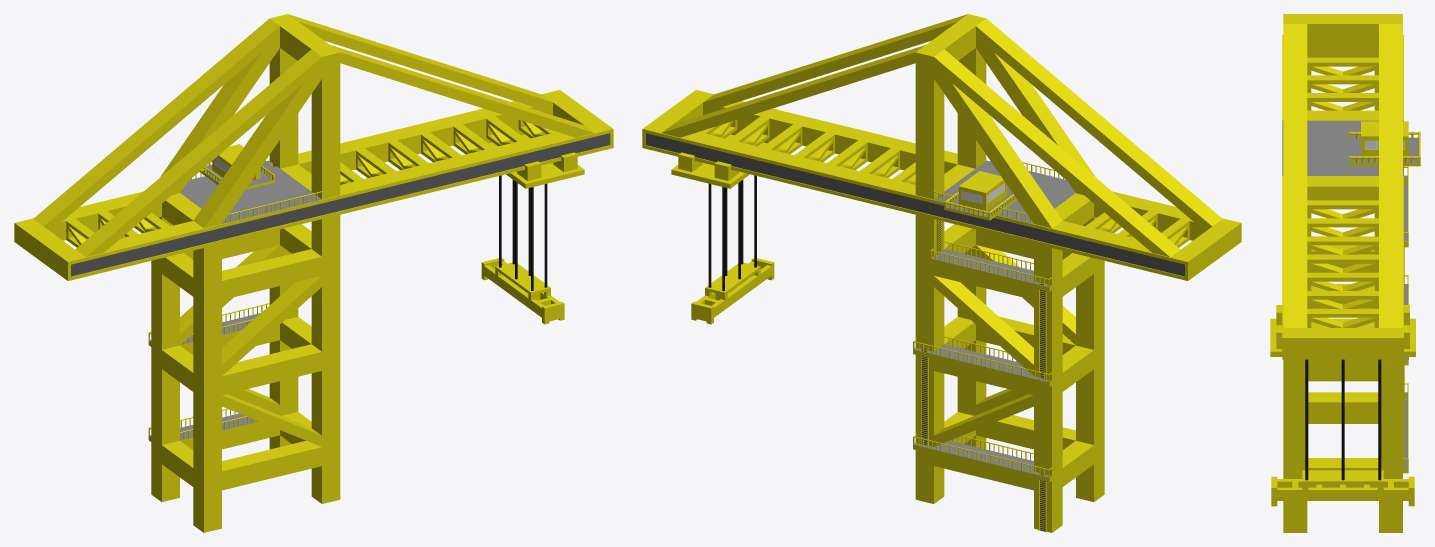
The model's file is grue_portuaire.fbx.
The picture shows the model from 3 angles, left to right: view 1: azimuth 30°, elevation 25°; view 2: azimuth 150°, elevation 25°; view 3: azimuth 270°, elevation 25°; orthographic projection. The views are drawn at different scales.
Parts seen in each view (by area): view 1: grue_portuaire, Rail2, PlateauHaut; view 2: grue_portuaire, Rail1, PlateauHaut, PassageEchelleHaut, PassageEchelleBas, Plan.001; view 3: grue_portuaire, PlateauHaut, Plan, Cable5, Cable4, Cable6, PassageEchelleBas, PassageEchelleHaut.
Boxes of the visible parts, x1,y1,x2,y2 form: grue_portuaire: [14, 14, 613, 532]; Rail2: [71, 133, 609, 276]; PlateauHaut: [180, 160, 321, 223]; grue_portuaire: [642, 14, 1241, 532]; Rail1: [646, 133, 1184, 276]; PlateauHaut: [933, 160, 1075, 223]; PassageEchelleHaut: [932, 249, 1051, 286]; PassageEchelleBas: [914, 440, 1051, 477]; Plan.001: [914, 344, 1051, 382]; grue_portuaire: [1270, 14, 1420, 532]; PlateauHaut: [1282, 120, 1403, 175]; Plan: [1349, 137, 1418, 162]; Cable5: [1341, 359, 1344, 480]; Cable4: [1305, 359, 1308, 480]; Cable6: [1378, 359, 1381, 480]; PassageEchelleBas: [1403, 392, 1407, 467]; PassageEchelleHaut: [1404, 175, 1407, 241].
Bounding box in the file's own units: 60000 × 47050 × 12600.
